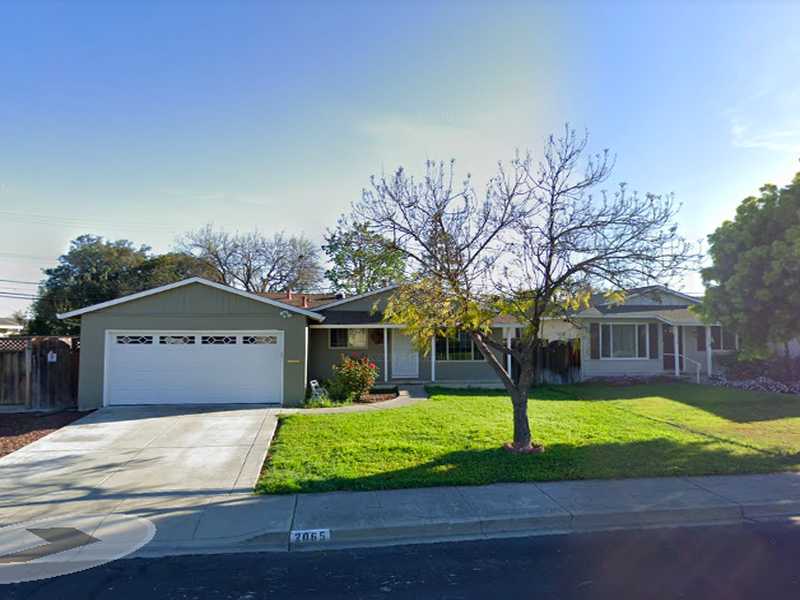tree: (341, 120, 705, 454)
